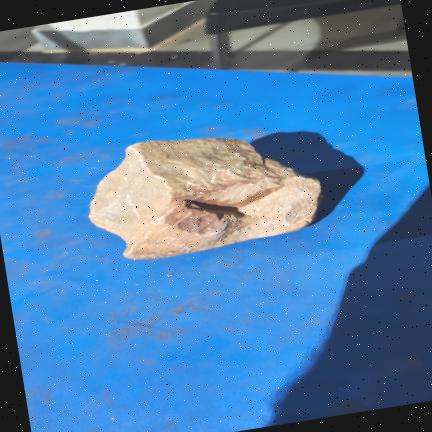Rocks: (90, 139, 320, 259)
